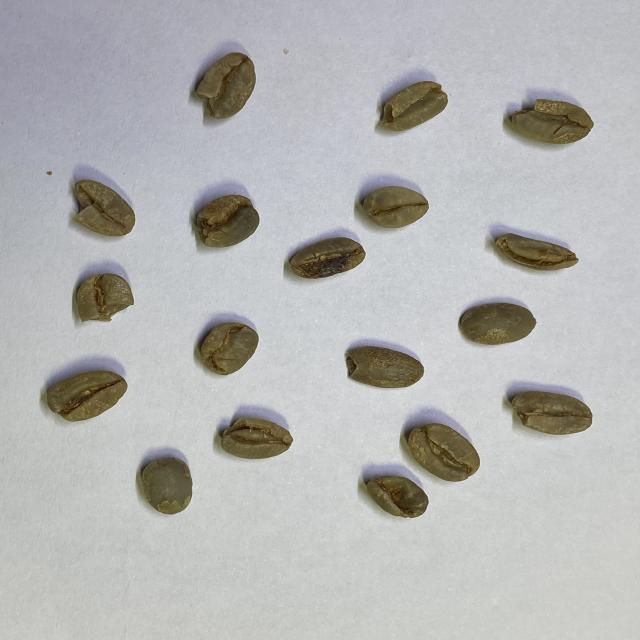bad: (194, 51, 257, 120), (511, 96, 595, 144), (508, 390, 594, 436), (378, 80, 448, 134), (74, 178, 136, 238), (344, 346, 426, 390), (220, 414, 296, 461), (195, 194, 261, 248), (494, 232, 578, 272), (200, 322, 260, 376), (76, 272, 136, 324), (290, 238, 368, 278), (366, 474, 430, 520)
good: (46, 367, 130, 422), (406, 422, 481, 482), (459, 301, 537, 346), (139, 456, 195, 516), (359, 184, 430, 230)
